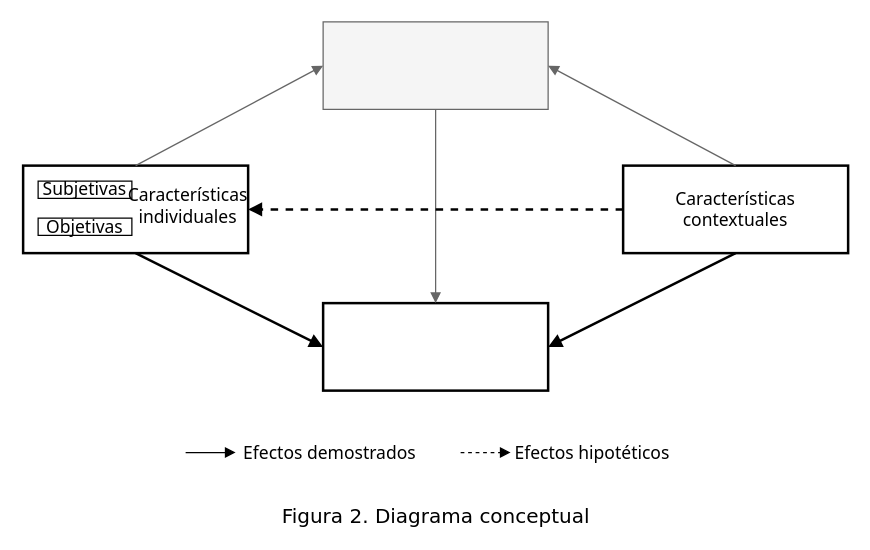
The diagram is 870 pixels wide and 550 high, and some of its shapes have lost their labels. The shapes that lost their labels are listed below. From the top down, each one's centre as x and y in pixels, then its label:
At pixel 435 65: "Conflicto real/objetivo".
At pixel 435 346: "Percepciones subjetivas de conflicto".
